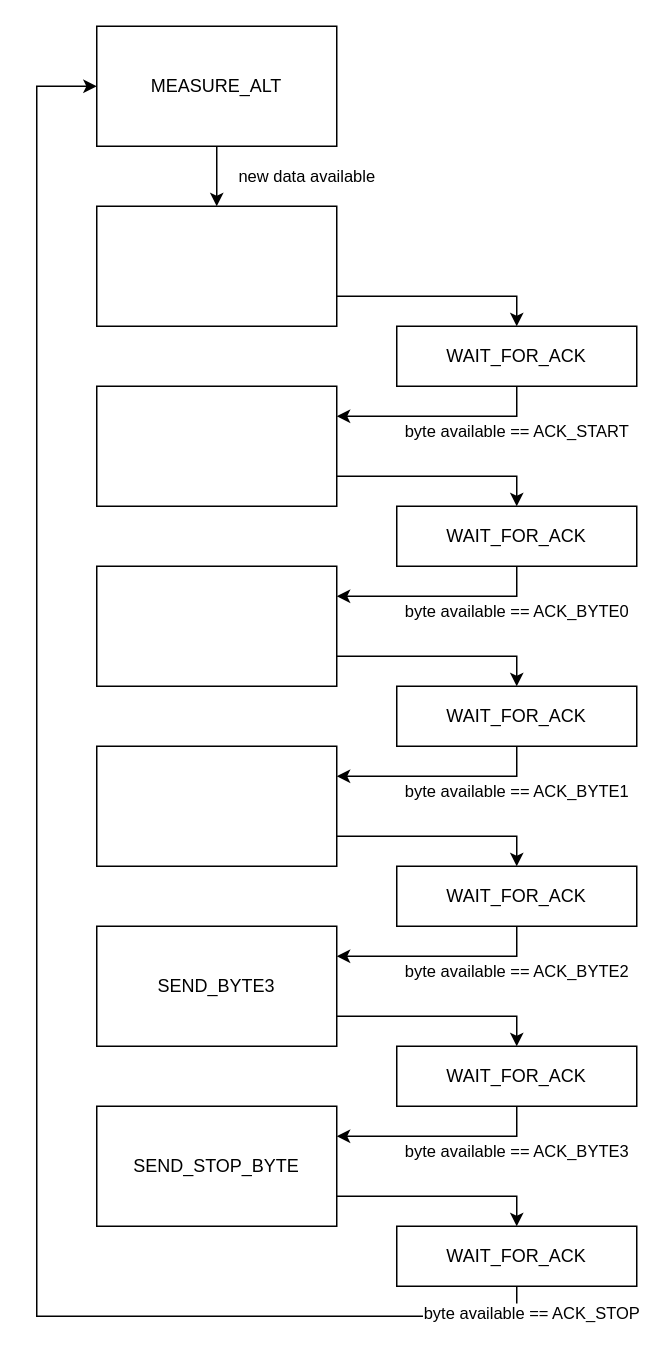
Image size: 666x1355. Some labels were removed from this diagram. The box of each missing label's shape, as (x1, y1, x2, y2) in pixels:
SEND_BYTE0: (95, 385, 337, 506)
SEND_BYTE1: (95, 565, 337, 686)
SEND_BYTE2: (95, 745, 337, 866)
SEND_START_BYTE: (95, 205, 337, 326)
